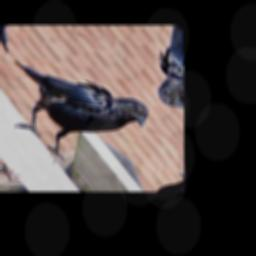Crow: (0, 32, 160, 167)
